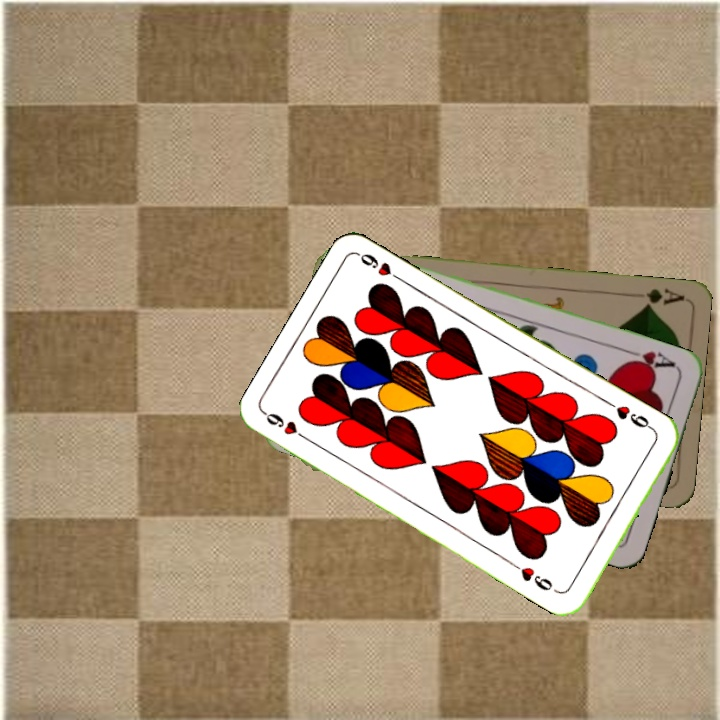GA: (639, 285, 686, 311)
H9: (604, 398, 658, 435), (261, 408, 314, 445)
HA: (621, 345, 680, 375)
